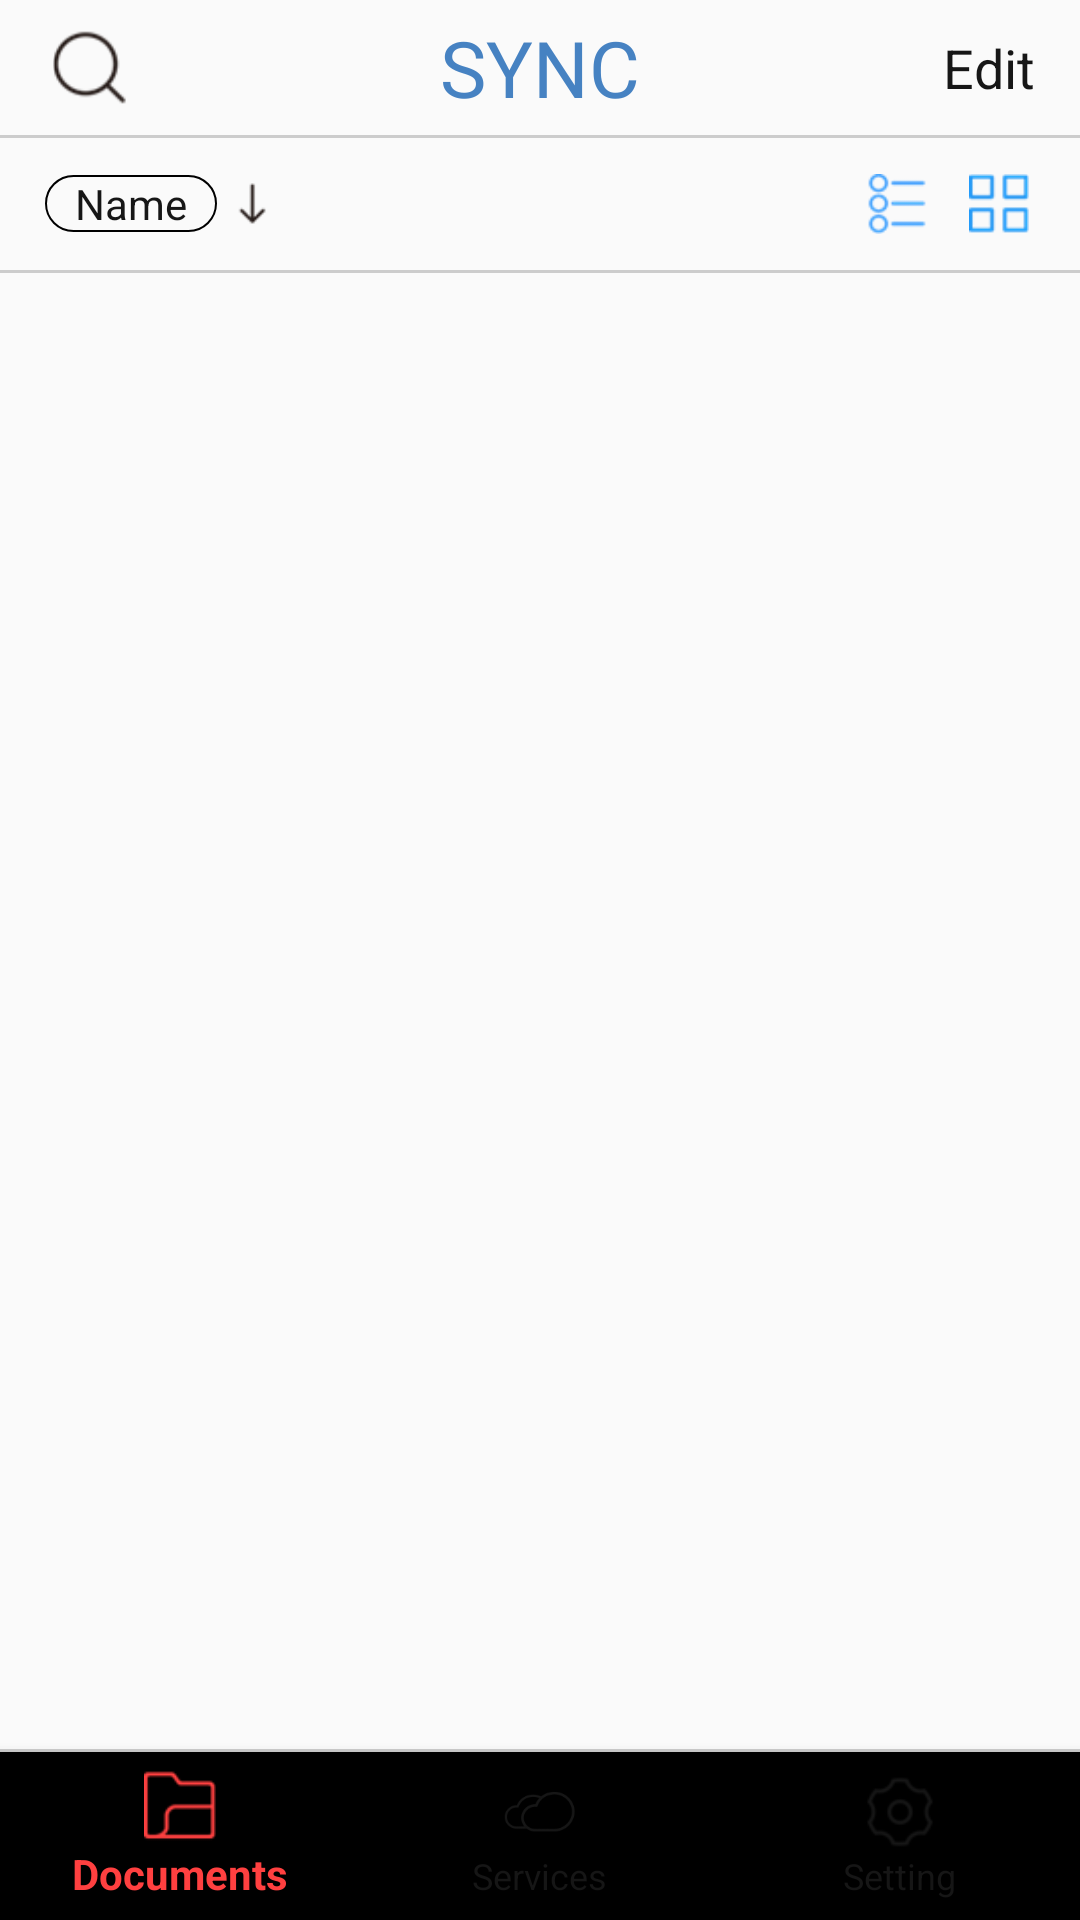

Where icons sit on this 1080*1920 app screen, as bbox=(x1, y1, x2, y2):
gridview: bbox=(969, 174, 1029, 233)
listview: bbox=(868, 174, 926, 234)
search: bbox=(53, 31, 126, 104)
sortatoz: bbox=(239, 183, 266, 224)
